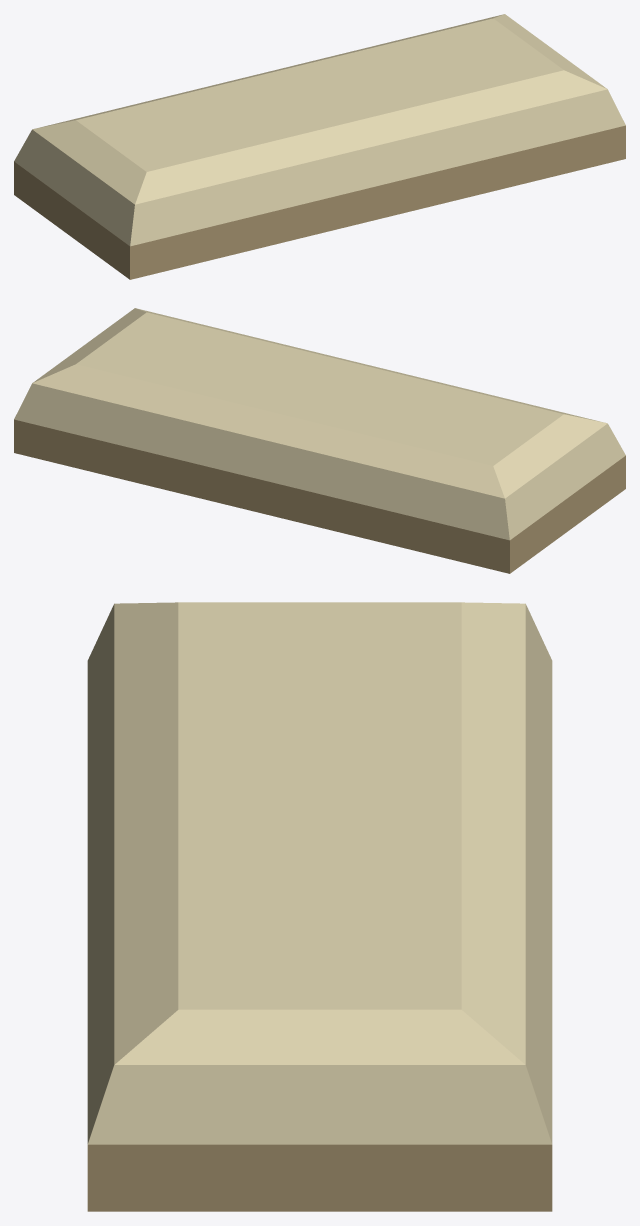
File: StreetCordMedium_01.glb
The picture shows the model from 3 angles, top to bottom: view 1: azimuth 30°, elevation 25°; view 2: azimuth 150°, elevation 25°; view 3: azimuth 270°, elevation 25°; orthographic projection. The views are drawn at different scales.
Parts seen in each view (by area): view 1: StreetCordMedium_01; view 2: StreetCordMedium_01; view 3: StreetCordMedium_01.
Boxes of the visible parts, x1,y1,x2,y2 form: StreetCordMedium_01: (14,14,625,279); StreetCordMedium_01: (14,308,625,573); StreetCordMedium_01: (87,602,552,1211).
Size of what is drawn, in the model's own units: 0.9474 by 0.1492 by 0.3844.
1 material, 1 textured.
